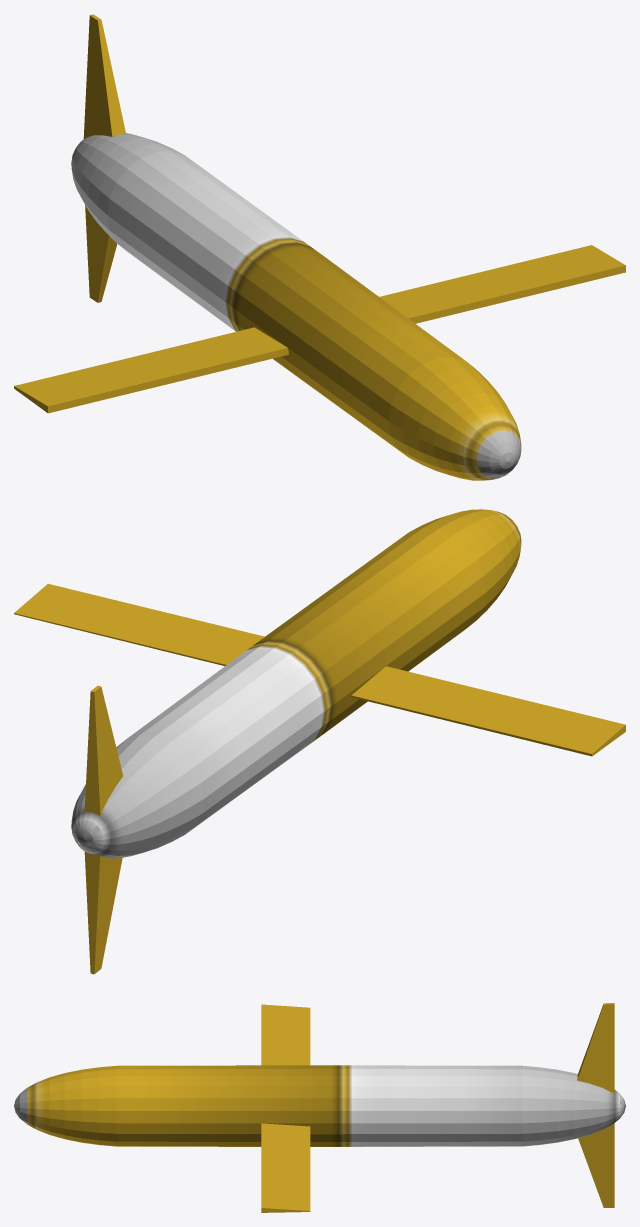
The model's file is auv_1.dae.
3 renders of one model, top to bottom at view 1: azimuth 30°, elevation 25°; view 2: azimuth 150°, elevation 25°; view 3: azimuth 270°, elevation 25°, orthographic. The views are drawn at different scales.
Visible parts, largest first — view 1: instance_5, instance_2, instance_3, instance_4; view 2: instance_5, instance_2, instance_3, instance_4; view 3: instance_5, instance_2, instance_3, instance_4.
Part boxes in pixels (box(x1,y1,x2,y2)): instance_5: box(71, 133, 521, 480); instance_2: box(14, 245, 625, 413); instance_3: box(83, 14, 125, 138); instance_4: box(85, 205, 117, 302); instance_5: box(71, 509, 521, 858); instance_2: box(14, 583, 625, 756); instance_3: box(84, 685, 123, 816); instance_4: box(84, 851, 122, 974); instance_5: box(14, 1065, 625, 1146); instance_2: box(261, 1004, 310, 1212); instance_3: box(577, 1003, 614, 1094); instance_4: box(578, 1123, 614, 1207).
Bounding box in the file's own units: 196 × 249 × 91.34.
4 materials, 4 textured.
